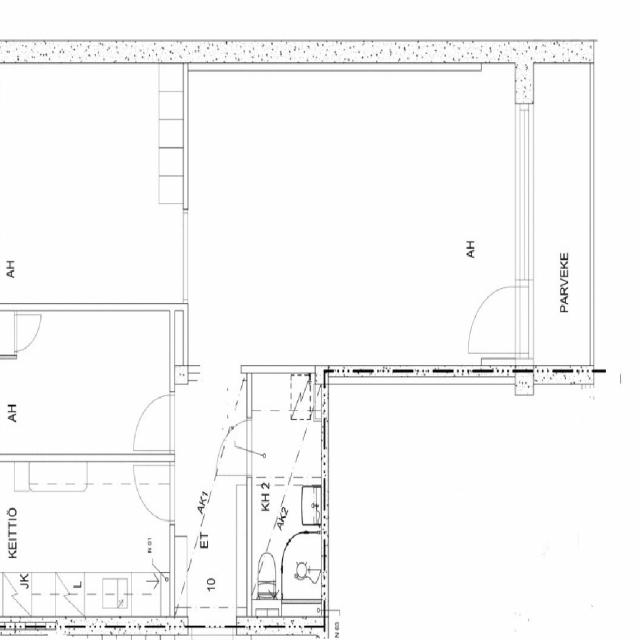door: (472, 286, 533, 352), (210, 420, 252, 474), (133, 465, 174, 520), (133, 395, 174, 450), (14, 313, 42, 352), (191, 615, 232, 640)
